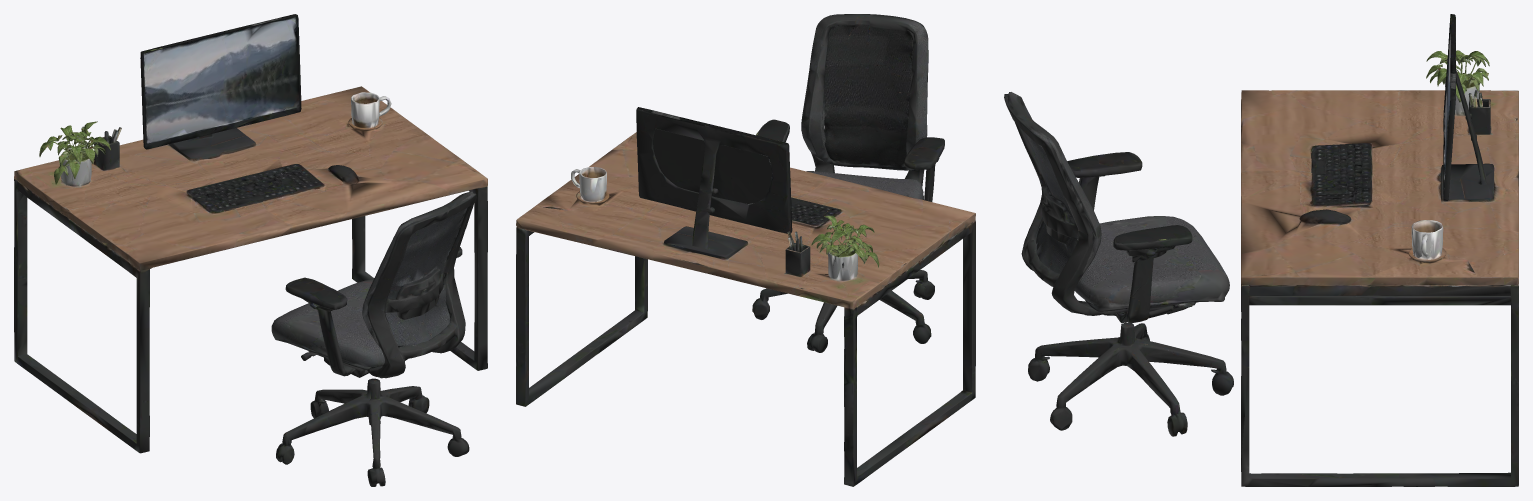
The model's file is mesa1.glb.
3 renders of one model, left to right at view 1: azimuth 30°, elevation 25°; view 2: azimuth 150°, elevation 25°; view 3: azimuth 270°, elevation 25°, orthographic. The views are drawn at different scales.
Bounding box in the file's own units: 1.41 × 1.2 × 1.64.
Materials: 1 (1 with a texture image).
